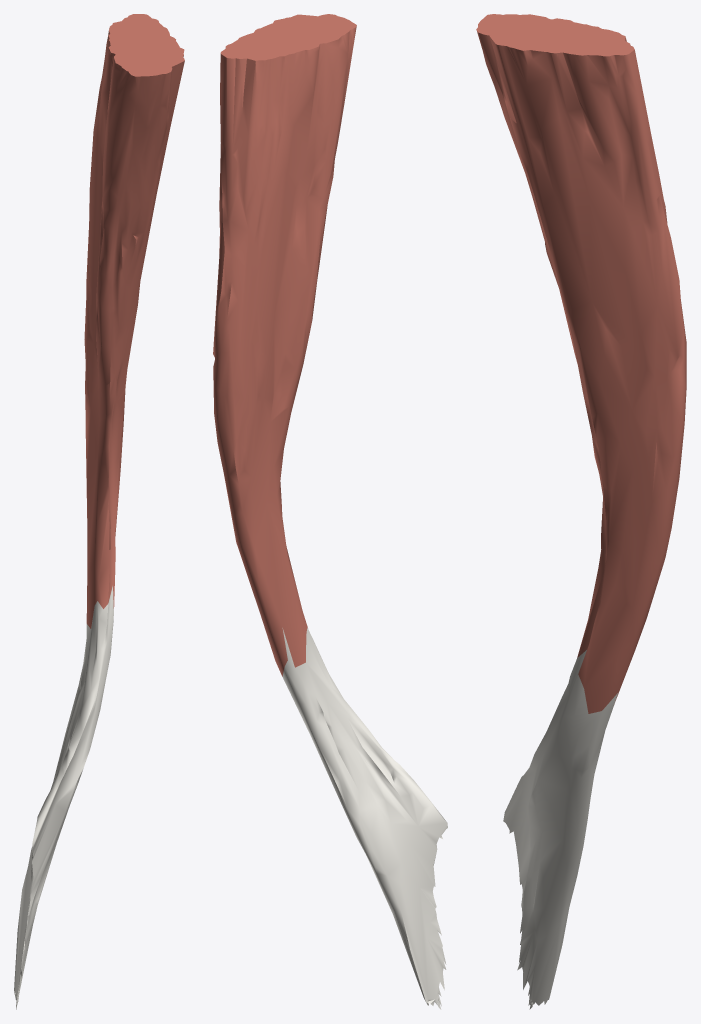
Rendered from gracile.glb.
3 views of the same model, side by side, from view 1: azimuth 30°, elevation 25°; view 2: azimuth 150°, elevation 25°; view 3: azimuth 270°, elevation 25° (orthographic). The views are drawn at different scales.
Visible parts, largest first — view 1: gracile; view 2: gracile; view 3: gracile.
Boxes of the visible parts, x1=… form: gracile: x1=14, y1=14, x2=184, y2=1009; gracile: x1=213, y1=14, x2=447, y2=1009; gracile: x1=476, y1=14, x2=686, y2=1009.
Size of the model in its own units: 0.0459 by 0.2297 by 0.0417.
